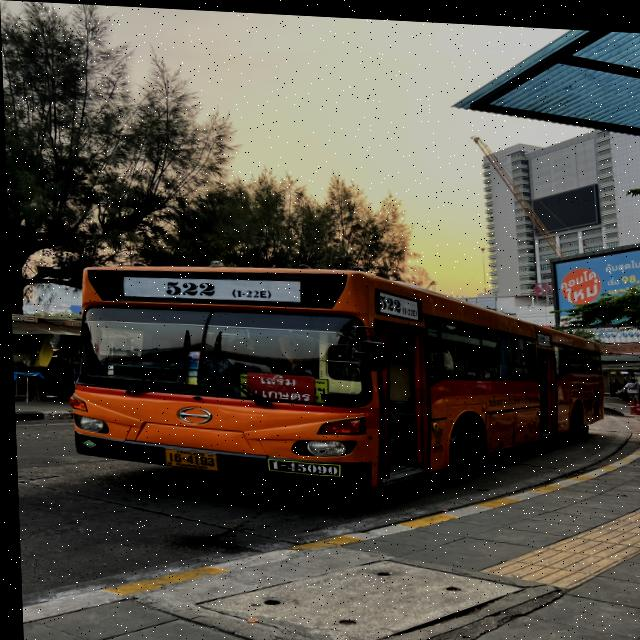BMTA-bus: (61, 255, 607, 499)
Bus-Line-Number: (150, 278, 270, 299)
Destination-Sign-Extra-Bus: (244, 371, 311, 397)
